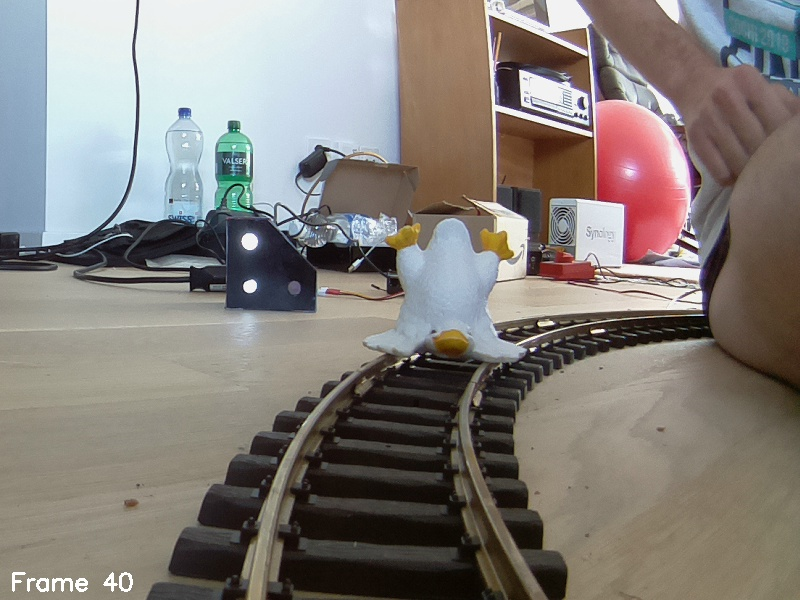Ente: (362, 209, 528, 378)
Fahrt: (224, 215, 317, 316)
